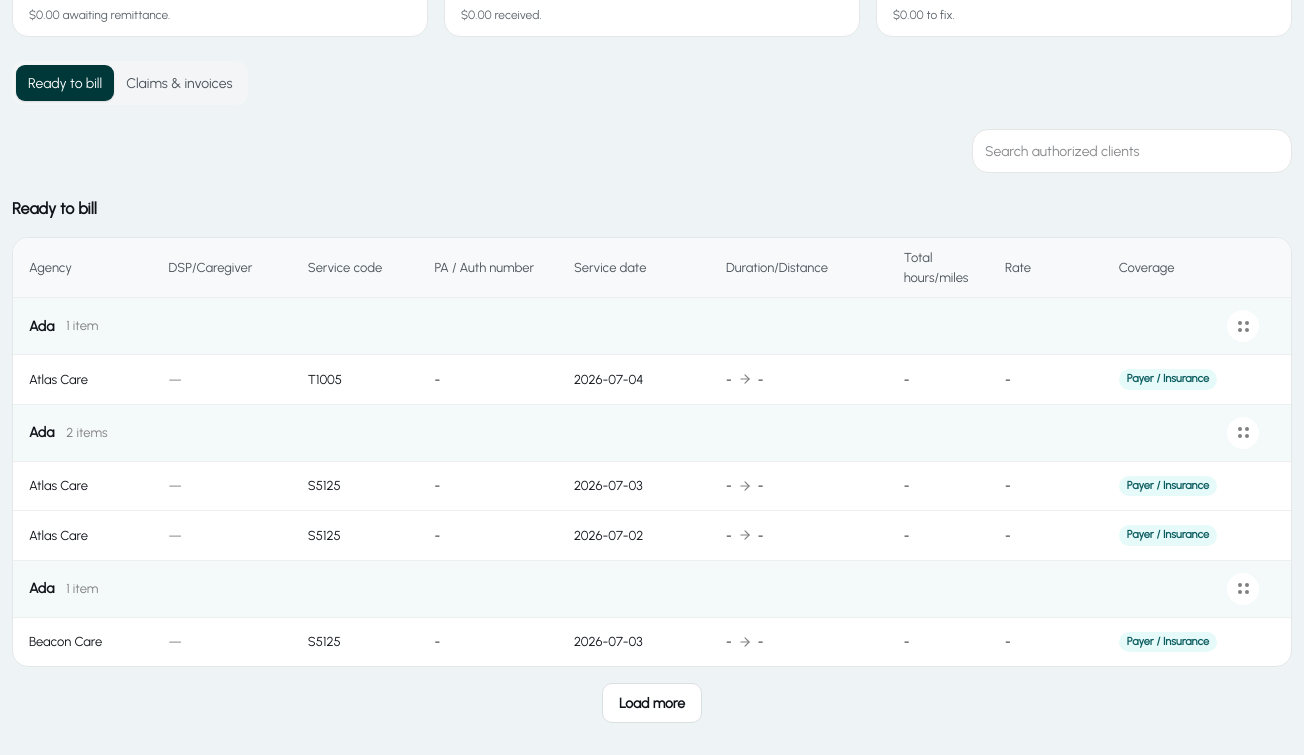
Test: NetworkClaims › retries a failed cursor once and refuses a repeated successful cursor
(page scrolled)
Click the button with aria-label "Load more ready-to-bill items": (652, 703) [602,683,702,723]
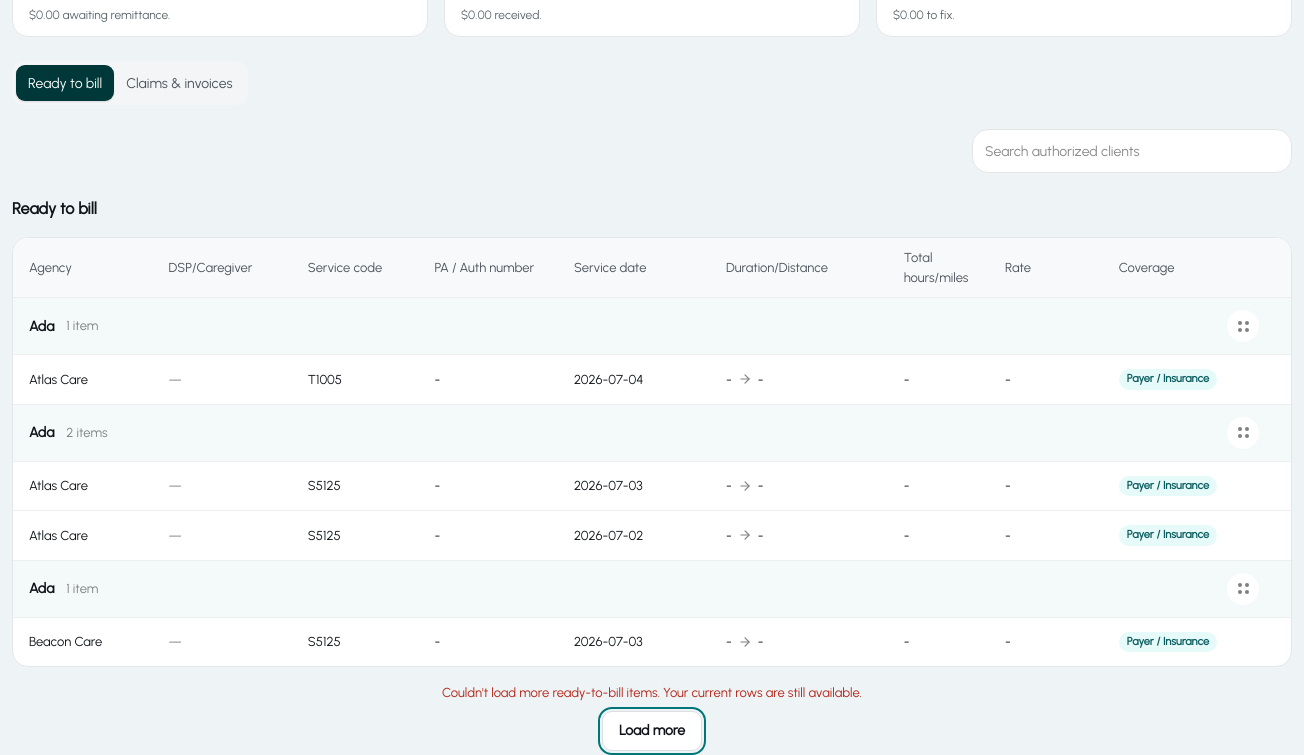
Click the button named "Load more ready-to-bill items": (652, 730) [602,710,702,750]
(page scrolled)
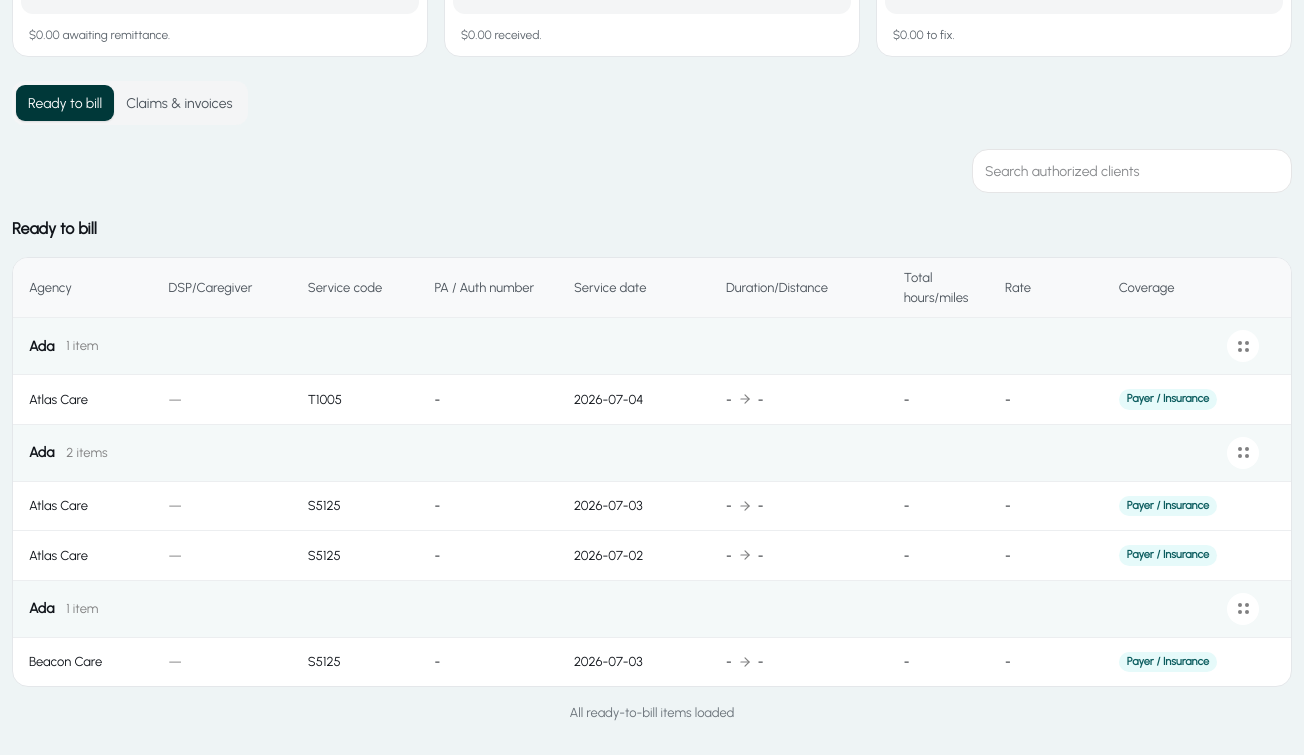
Check: the message "load more ready-to-bill items" is gone
